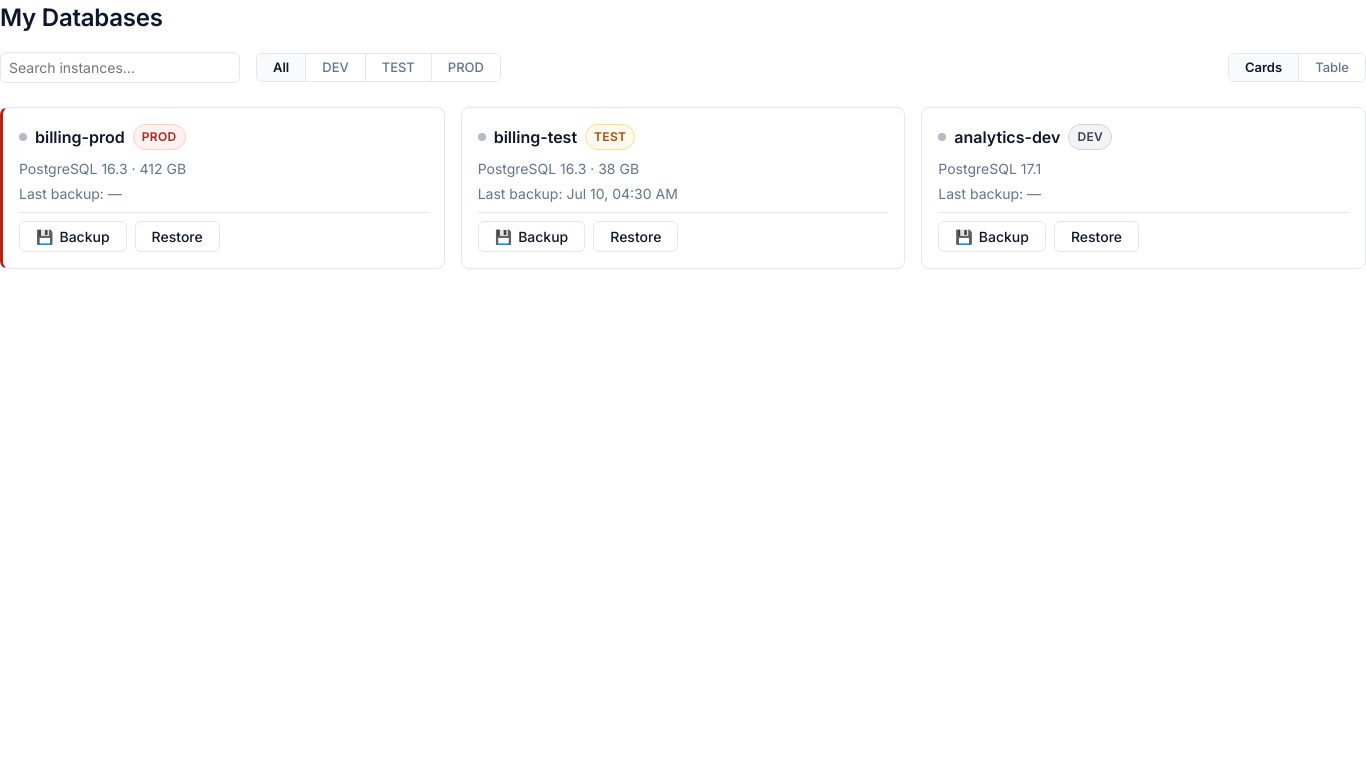
Test: Backup opens the launch drawer and starts a run
Expected: the text "billing-test" is shown, [494,125,577,149]
Click the button "💾 Backup" below "Jul 10, 04:30 AM". click: (532, 236)
box: [478,221,585,252]
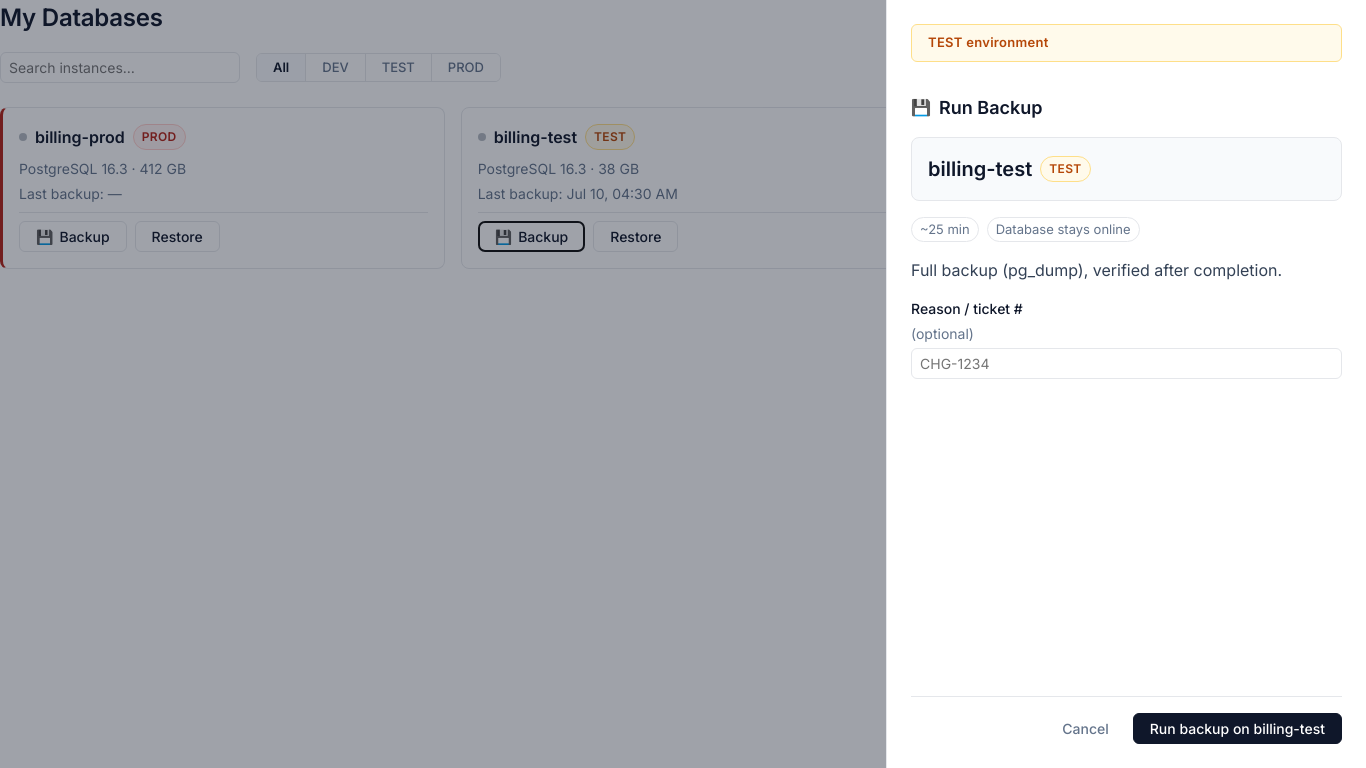
Expected: the text "billing-test" is shown, [928,154,1032,184]
Expected: the text "TEST" is shown, [1040,156,1090,182]
Expected: the text "~25 min" is shown, [911,216,979,242]
Type "CHG-77" into the field. click: (1126, 364)
box: [911,348,1342,379]
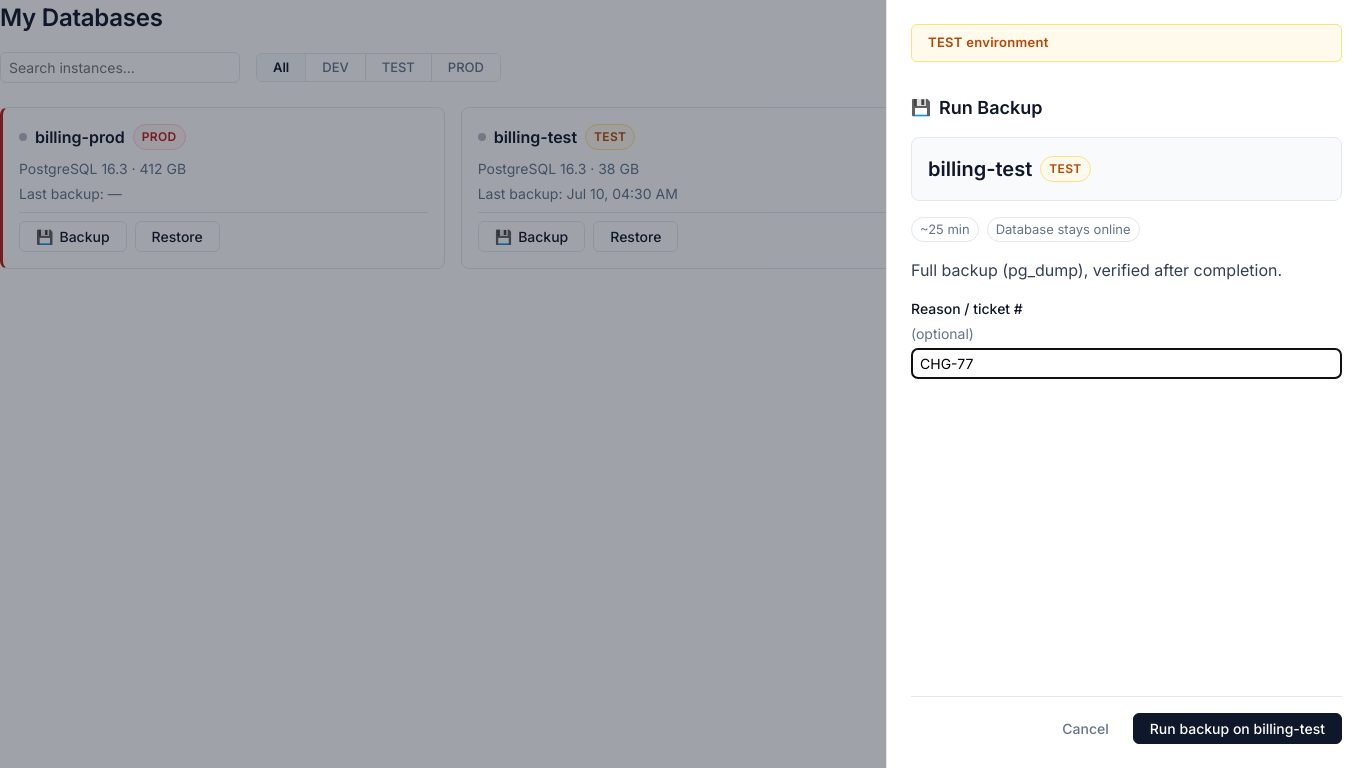
Click the button "Run backup on billing-test". click: (1237, 728)
box: [1133,713,1342,744]
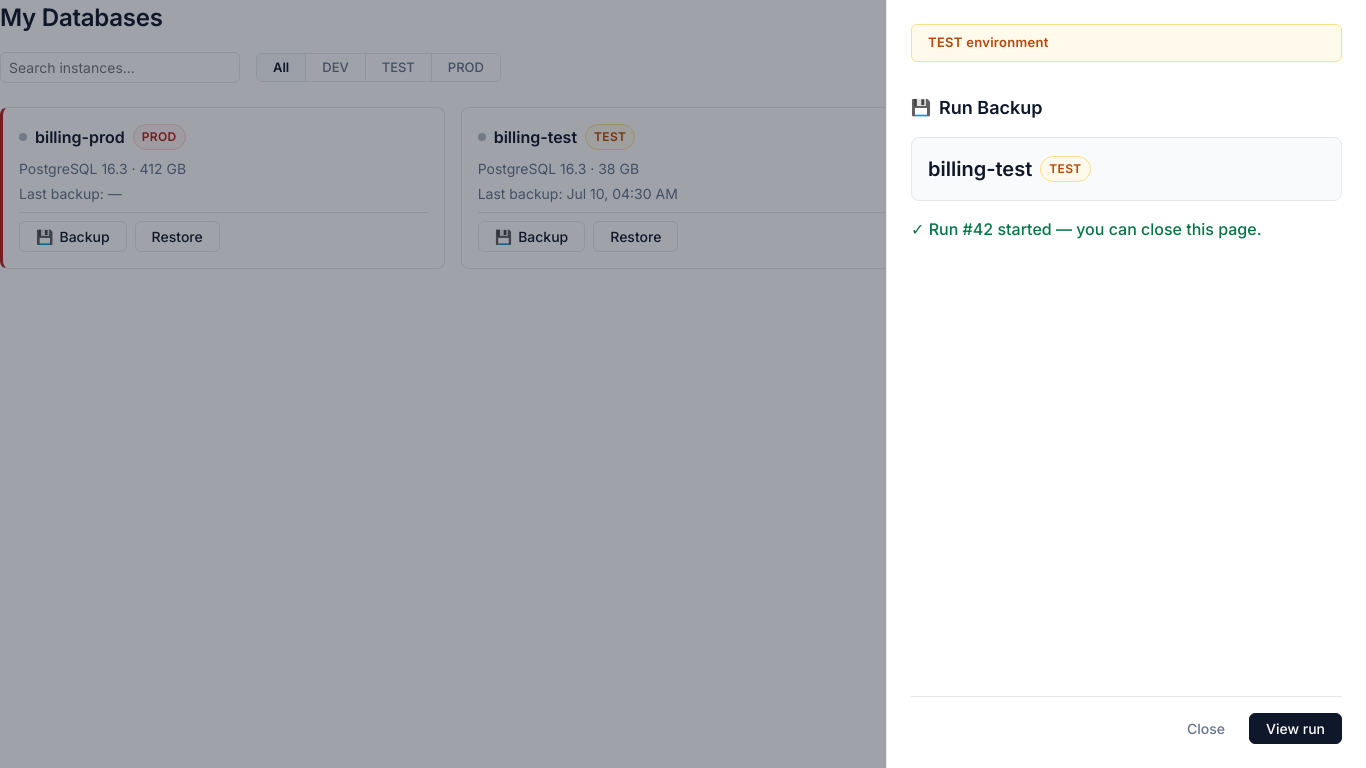
Expected: the message shows "Run #42 started", [911,218,1262,238]
